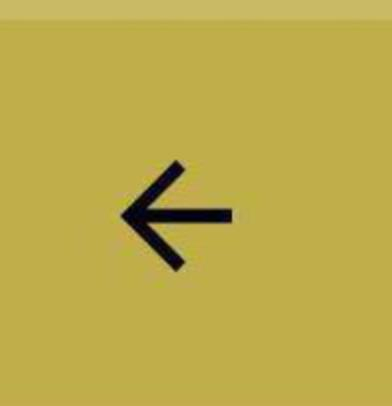ImgButton: (1, 1, 391, 405)
